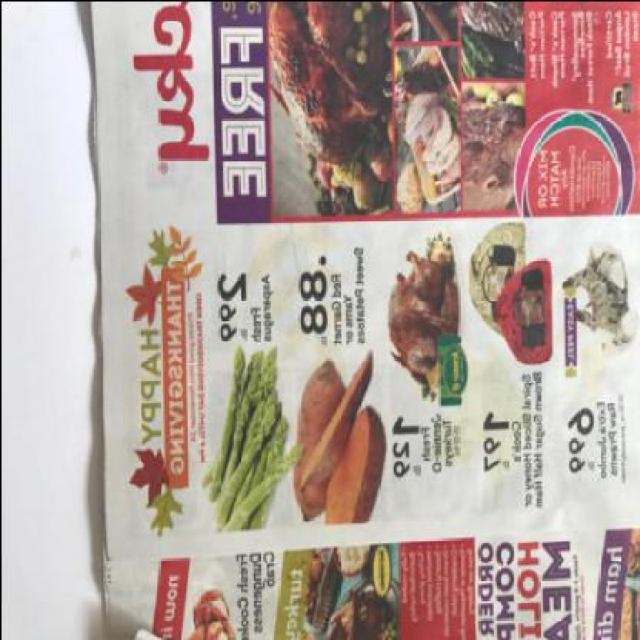PAPER: (89, 1, 638, 640)
